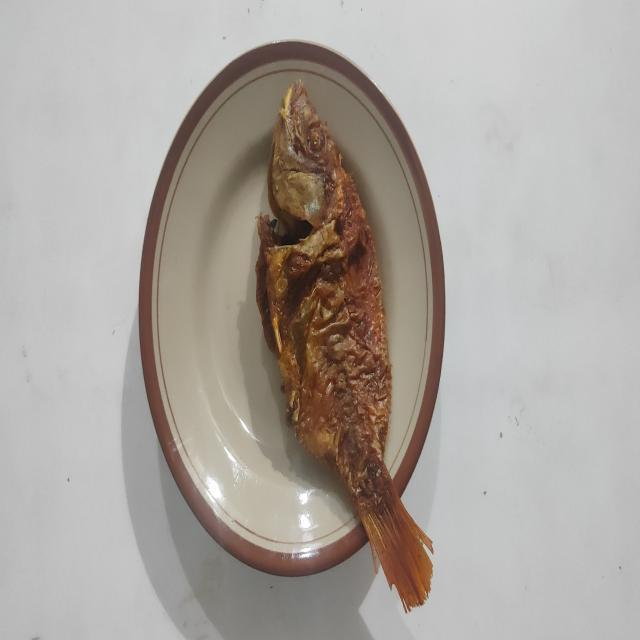ikan_mujair: (256, 80, 433, 610)
